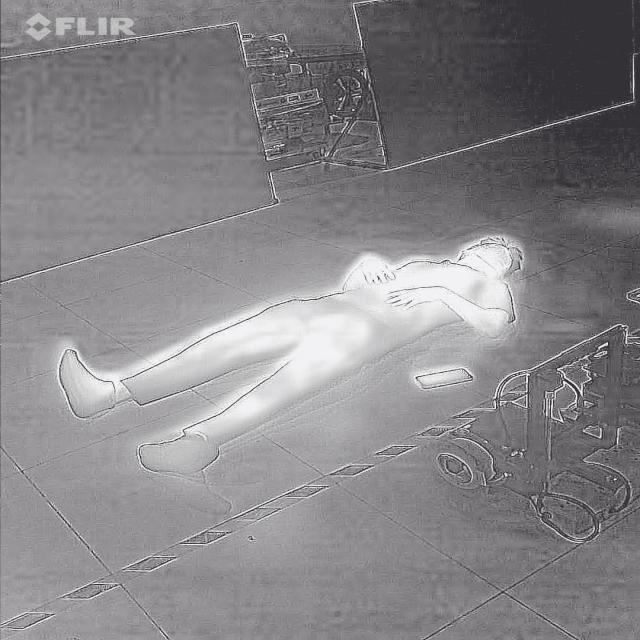Victim: (46, 230, 524, 476)
